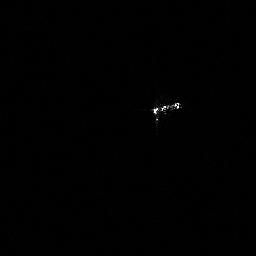ship: (147, 98, 184, 124)
